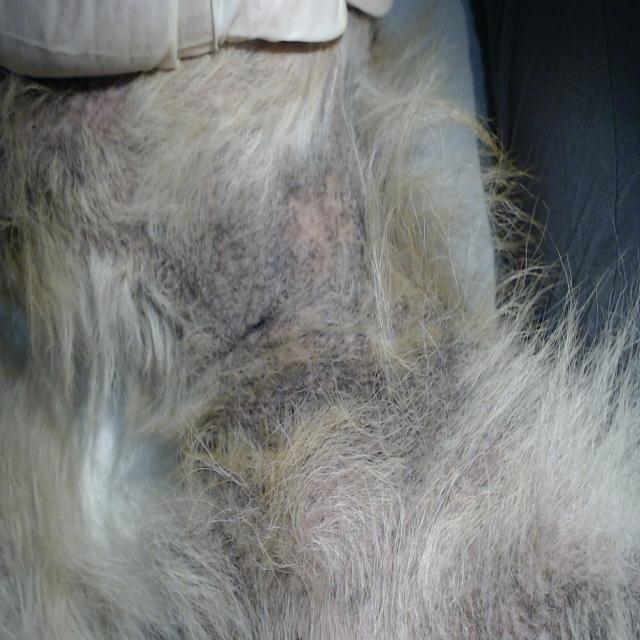demodicosis: (248, 159, 394, 387)
